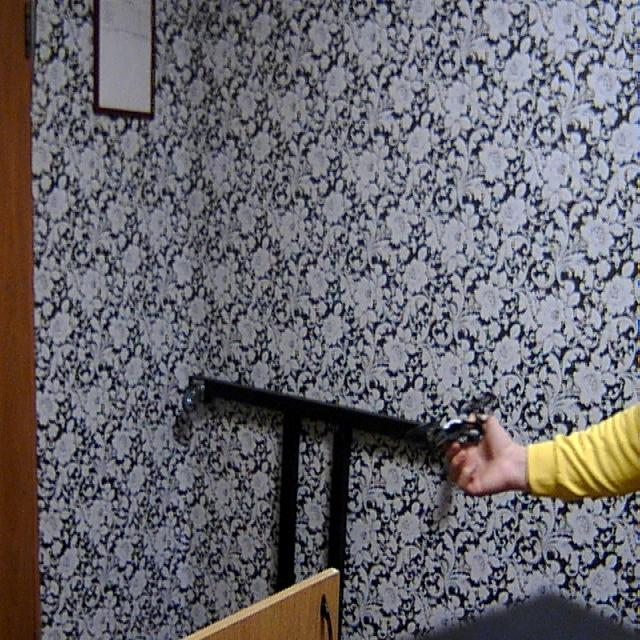drone: (410, 381, 504, 454)
